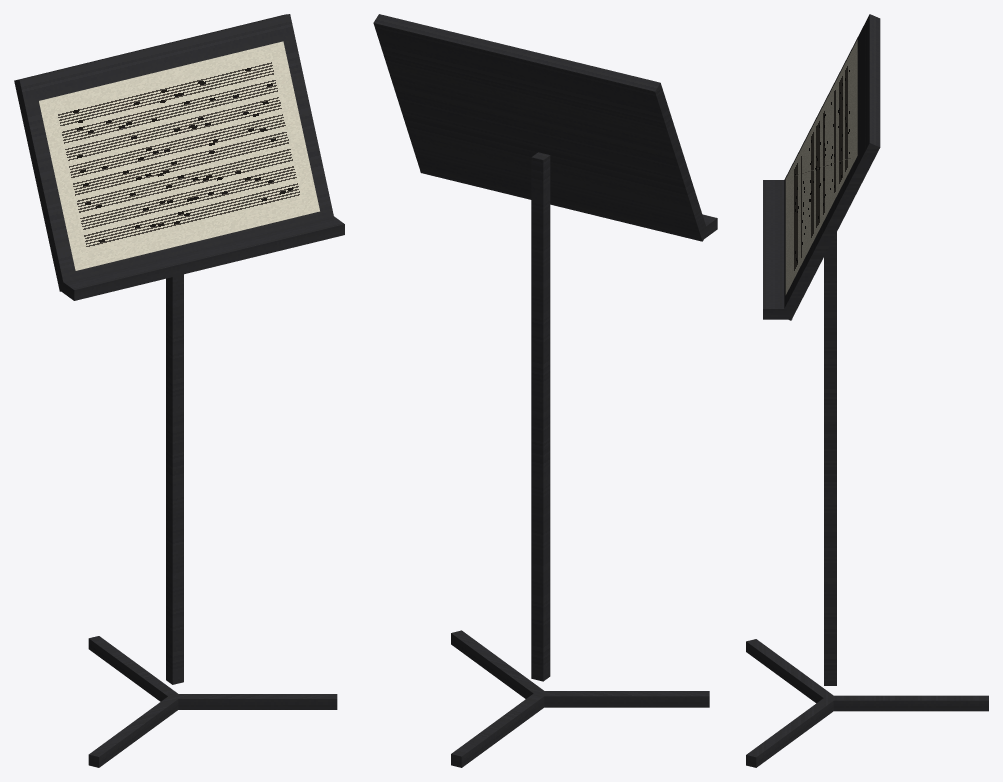
The model's file is music_stand_knockable.glb.
3 renders of one model, left to right at view 1: azimuth 30°, elevation 25°; view 2: azimuth 150°, elevation 25°; view 3: azimuth 270°, elevation 25°, orthographic. The views are drawn at different scales.
Parts seen in each view (by area): view 1: stand_desk, stand_pole, stand_base; view 2: stand_desk, stand_pole, stand_base; view 3: stand_desk, stand_base, stand_pole.
Boxes of the visible parts, bbox=[...] form: stand_desk: bbox=[14, 14, 344, 300]; stand_pole: bbox=[166, 274, 183, 684]; stand_base: bbox=[88, 636, 337, 767]; stand_desk: bbox=[373, 14, 717, 241]; stand_pole: bbox=[531, 152, 550, 681]; stand_base: bbox=[451, 630, 709, 767]; stand_desk: bbox=[763, 14, 880, 320]; stand_base: bbox=[746, 639, 988, 767]; stand_pole: bbox=[824, 232, 836, 685].
Bounding box in the file's own units: 0.52 × 1.19 × 0.4137.
2 materials, 2 textured.
